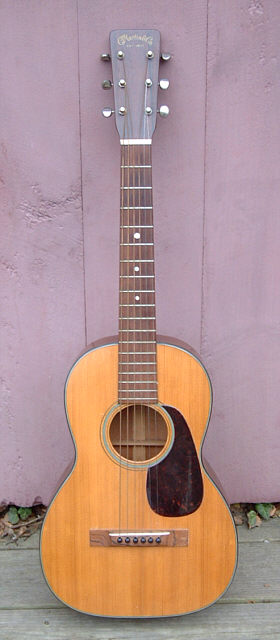guitar: (36, 26, 241, 621)
